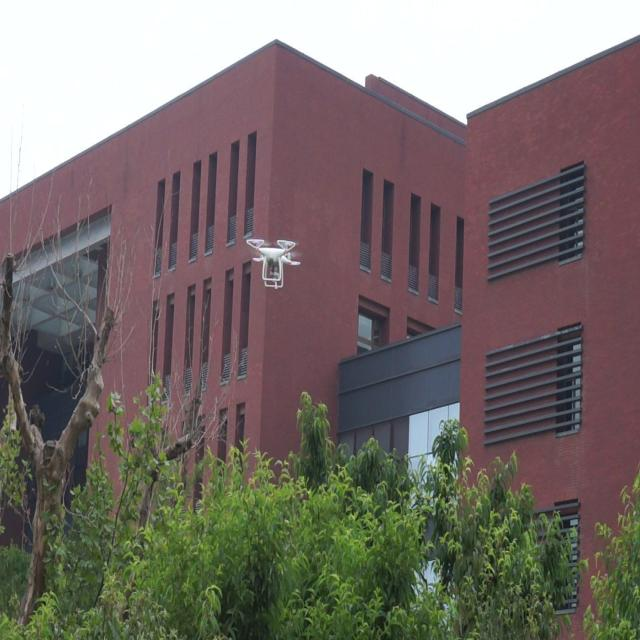drone: (246, 233, 301, 292)
